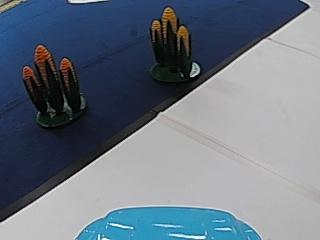corn: (20, 41, 90, 127), (146, 4, 199, 81)
